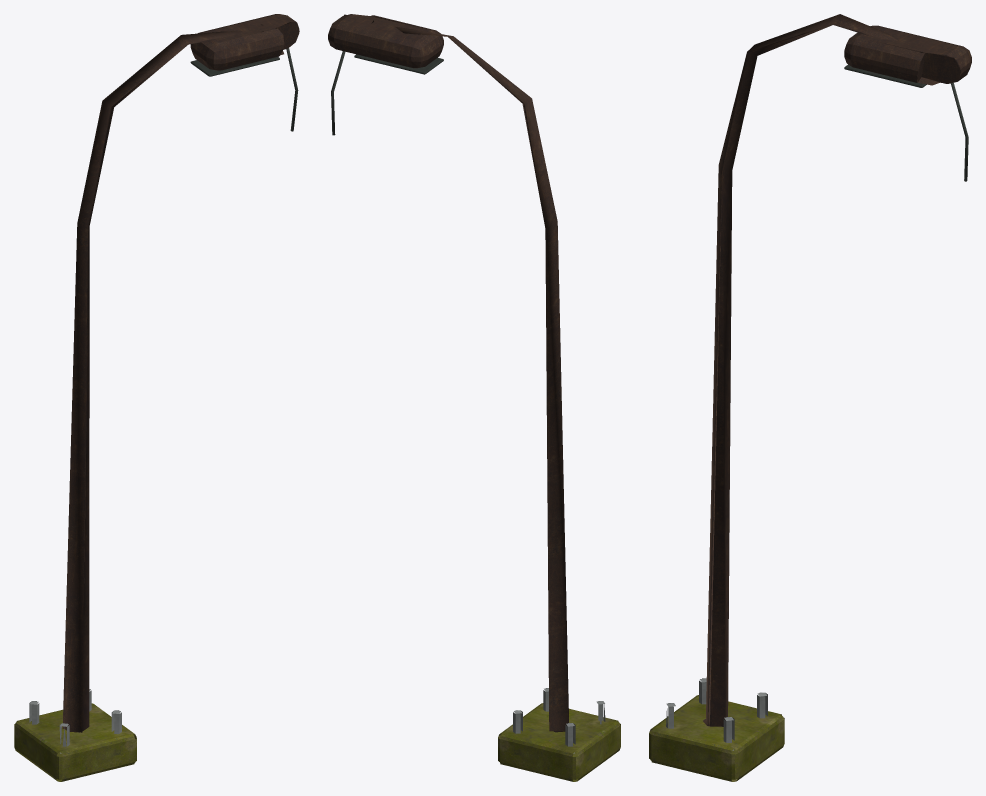
Rendered from lod1_NOT_APPROVED.glb.
3 views of the same model, side by side, from view 1: azimuth 30°, elevation 25°; view 2: azimuth 150°, elevation 25°; view 3: azimuth 330°, elevation 25° (orthographic). The views are drawn at different scales.
Parts seen in each view (by area): view 1: f3_oxidized_iron_surface, f3_damp_concrete_surface, f3_bare_worn_steel_surface; view 2: f3_oxidized_iron_surface, f3_damp_concrete_surface, f3_bare_worn_steel_surface; view 3: f3_oxidized_iron_surface, f3_damp_concrete_surface, f3_bare_worn_steel_surface.
Part boxes in pixels (box(x1,y1,x2,y2)): f3_oxidized_iron_surface: box(62, 14, 299, 732); f3_damp_concrete_surface: box(14, 703, 136, 781); f3_bare_worn_steel_surface: box(29, 689, 121, 753); f3_oxidized_iron_surface: box(328, 14, 568, 732); f3_damp_concrete_surface: box(498, 703, 620, 781); f3_bare_worn_steel_surface: box(513, 688, 605, 753); f3_oxidized_iron_surface: box(703, 14, 971, 726); f3_damp_concrete_surface: box(649, 695, 784, 781); f3_bare_worn_steel_surface: box(666, 678, 767, 750).
Size of the model in its own units: 1.82 by 4.57 by 0.55.
Materials: 5 (5 with a texture image).
